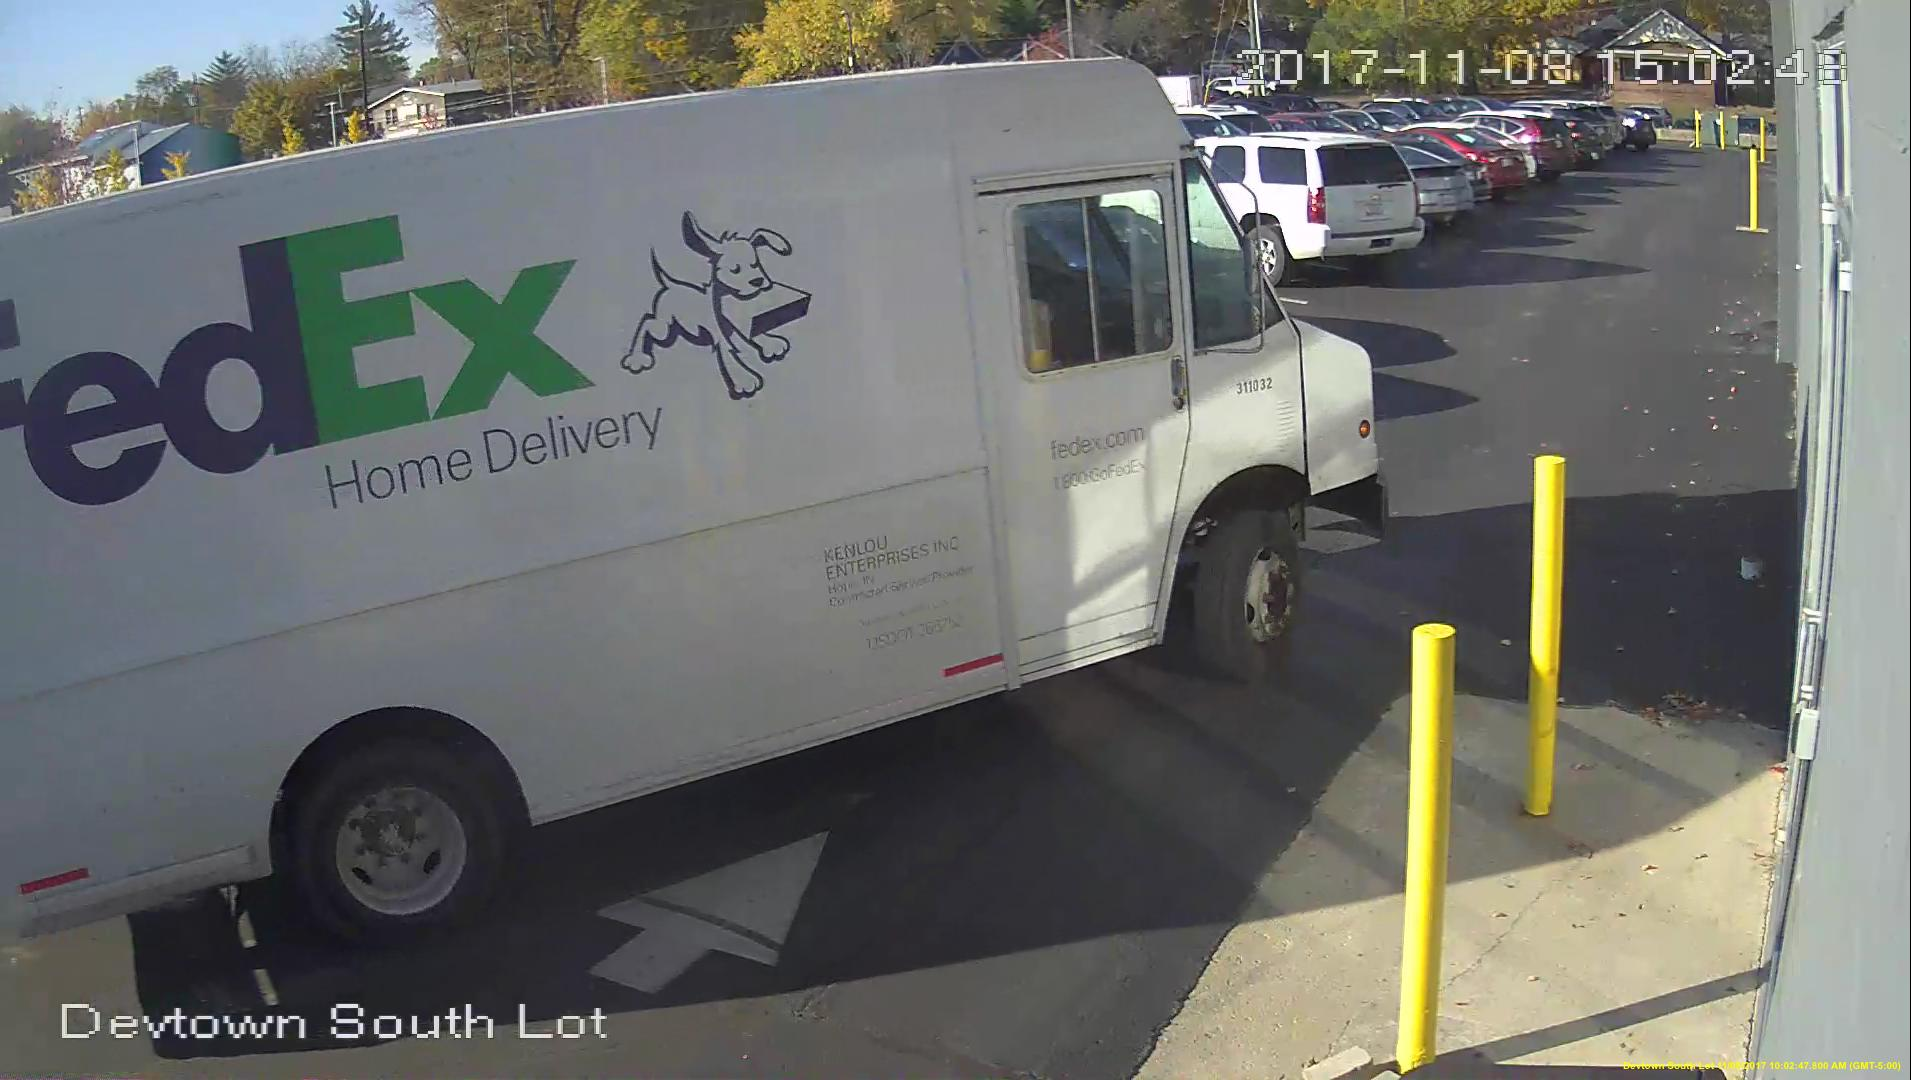fedex_truck: (3, 52, 1396, 954)
